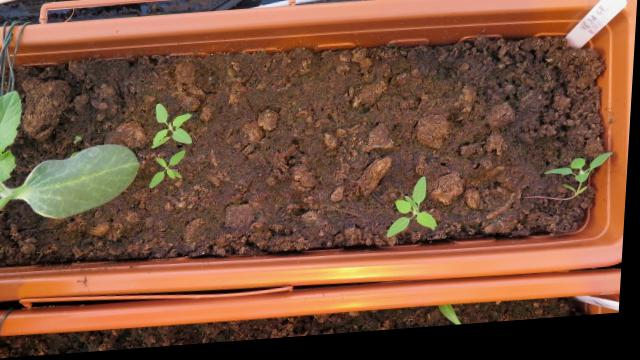weed: (386, 180, 444, 245), (150, 100, 200, 151), (146, 150, 191, 193)
